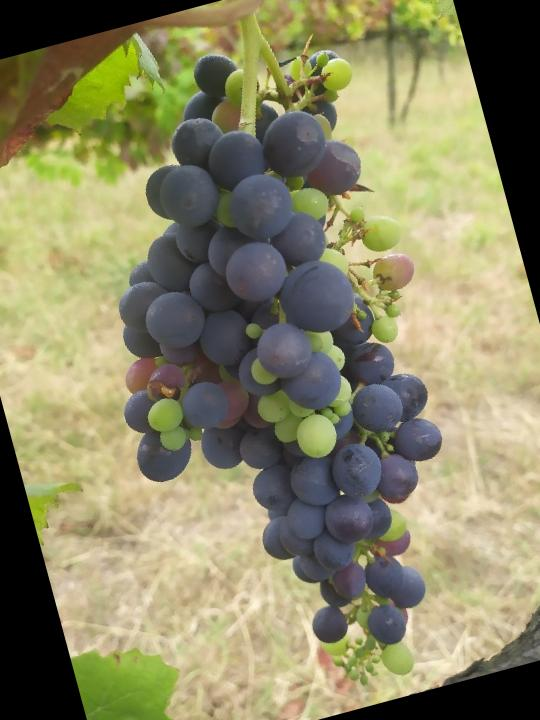grape: (36, 15, 522, 720)
